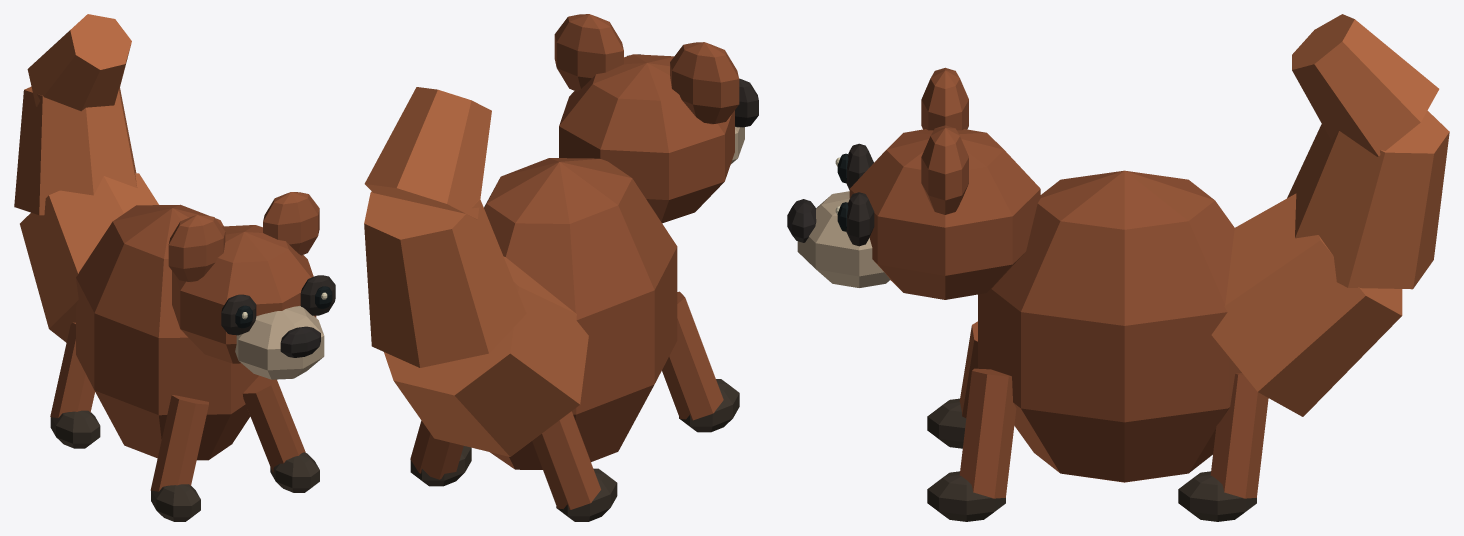
Rendered from fauna-redtail_squirrel.glb.
The picture shows the model from 3 angles, left to right: view 1: azimuth 30°, elevation 25°; view 2: azimuth 150°, elevation 25°; view 3: azimuth 270°, elevation 25°; orthographic projection. The views are drawn at different scales.
Visible parts, largest first — view 1: Fauna_redtail_squirrel; view 2: Fauna_redtail_squirrel; view 3: Fauna_redtail_squirrel.
Part boxes in pixels (x1,y1,x2,y2): Fauna_redtail_squirrel: [14, 14, 335, 521]; Fauna_redtail_squirrel: [364, 14, 758, 521]; Fauna_redtail_squirrel: [787, 14, 1449, 521].
Size of the model in its own units: 0.6371 by 1.44 by 1.85.
